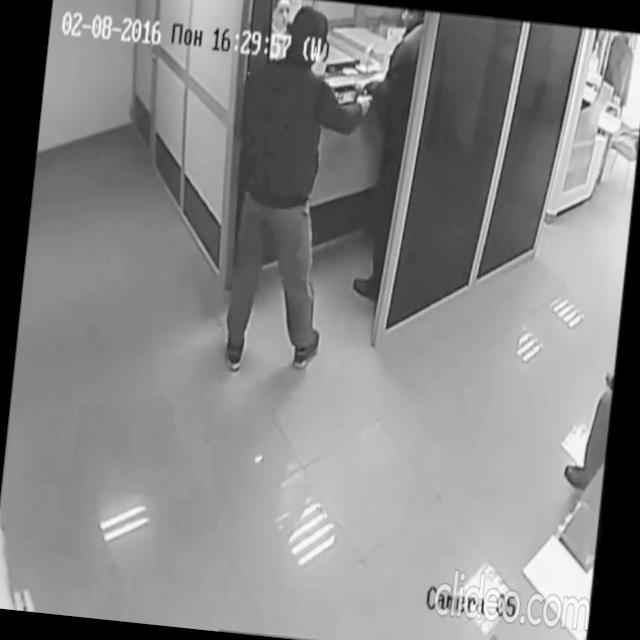gun: (354, 83, 380, 116)
person with a gun: (212, 0, 389, 385)
